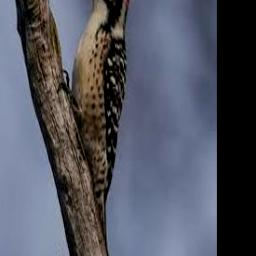Woodpecker: (58, 0, 132, 243)
